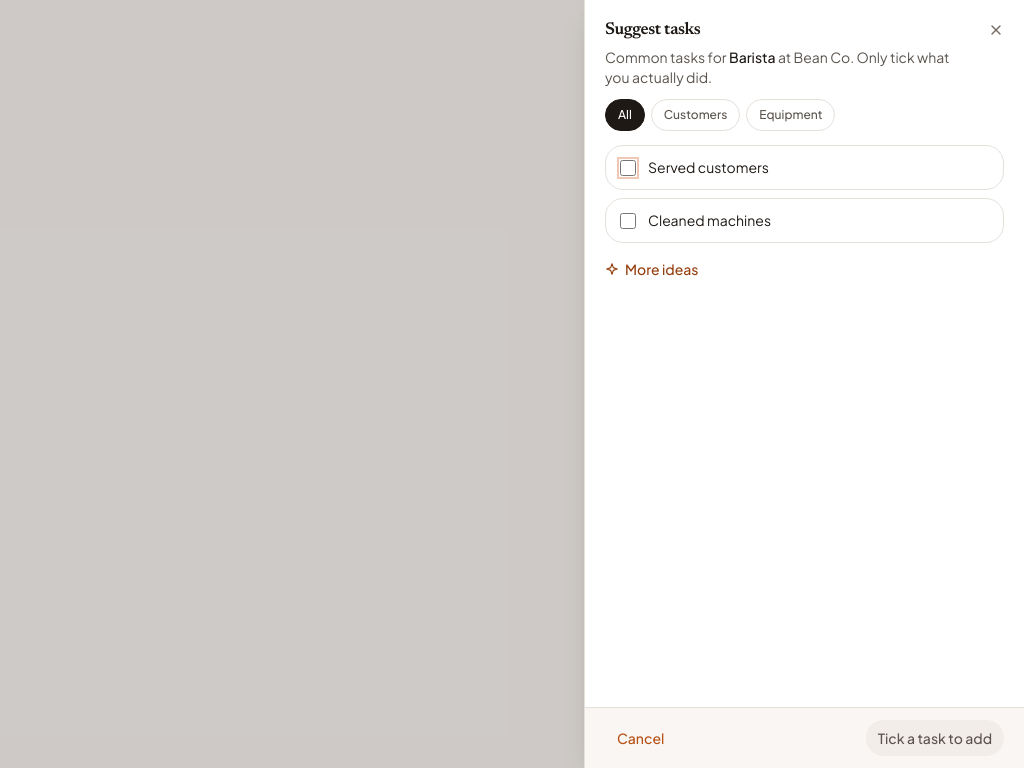
SuggestTasksPanel › filters by type of task
This screenshot has width=1024, height=768.
Step 1. Click the button "Equipment" → (791, 115), box left=746, top=99, right=836, bottom=131
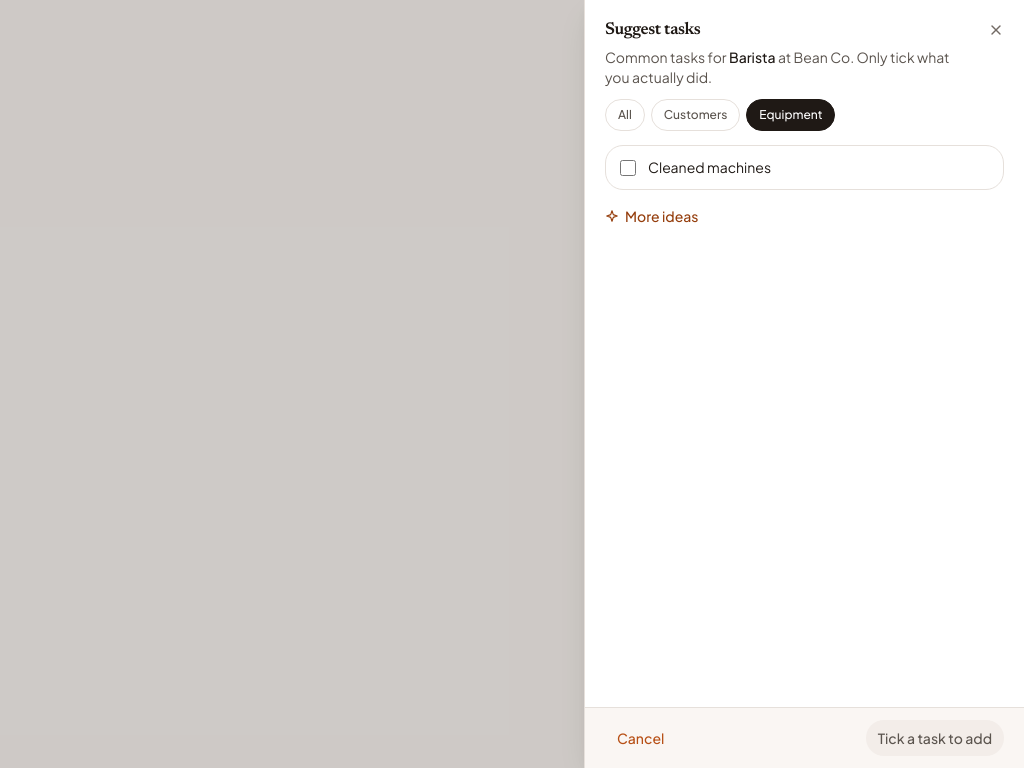
Expected: the text "Cleaned machines" is shown, left=648, top=158, right=771, bottom=176
Result: the text "Served customers" is gone
